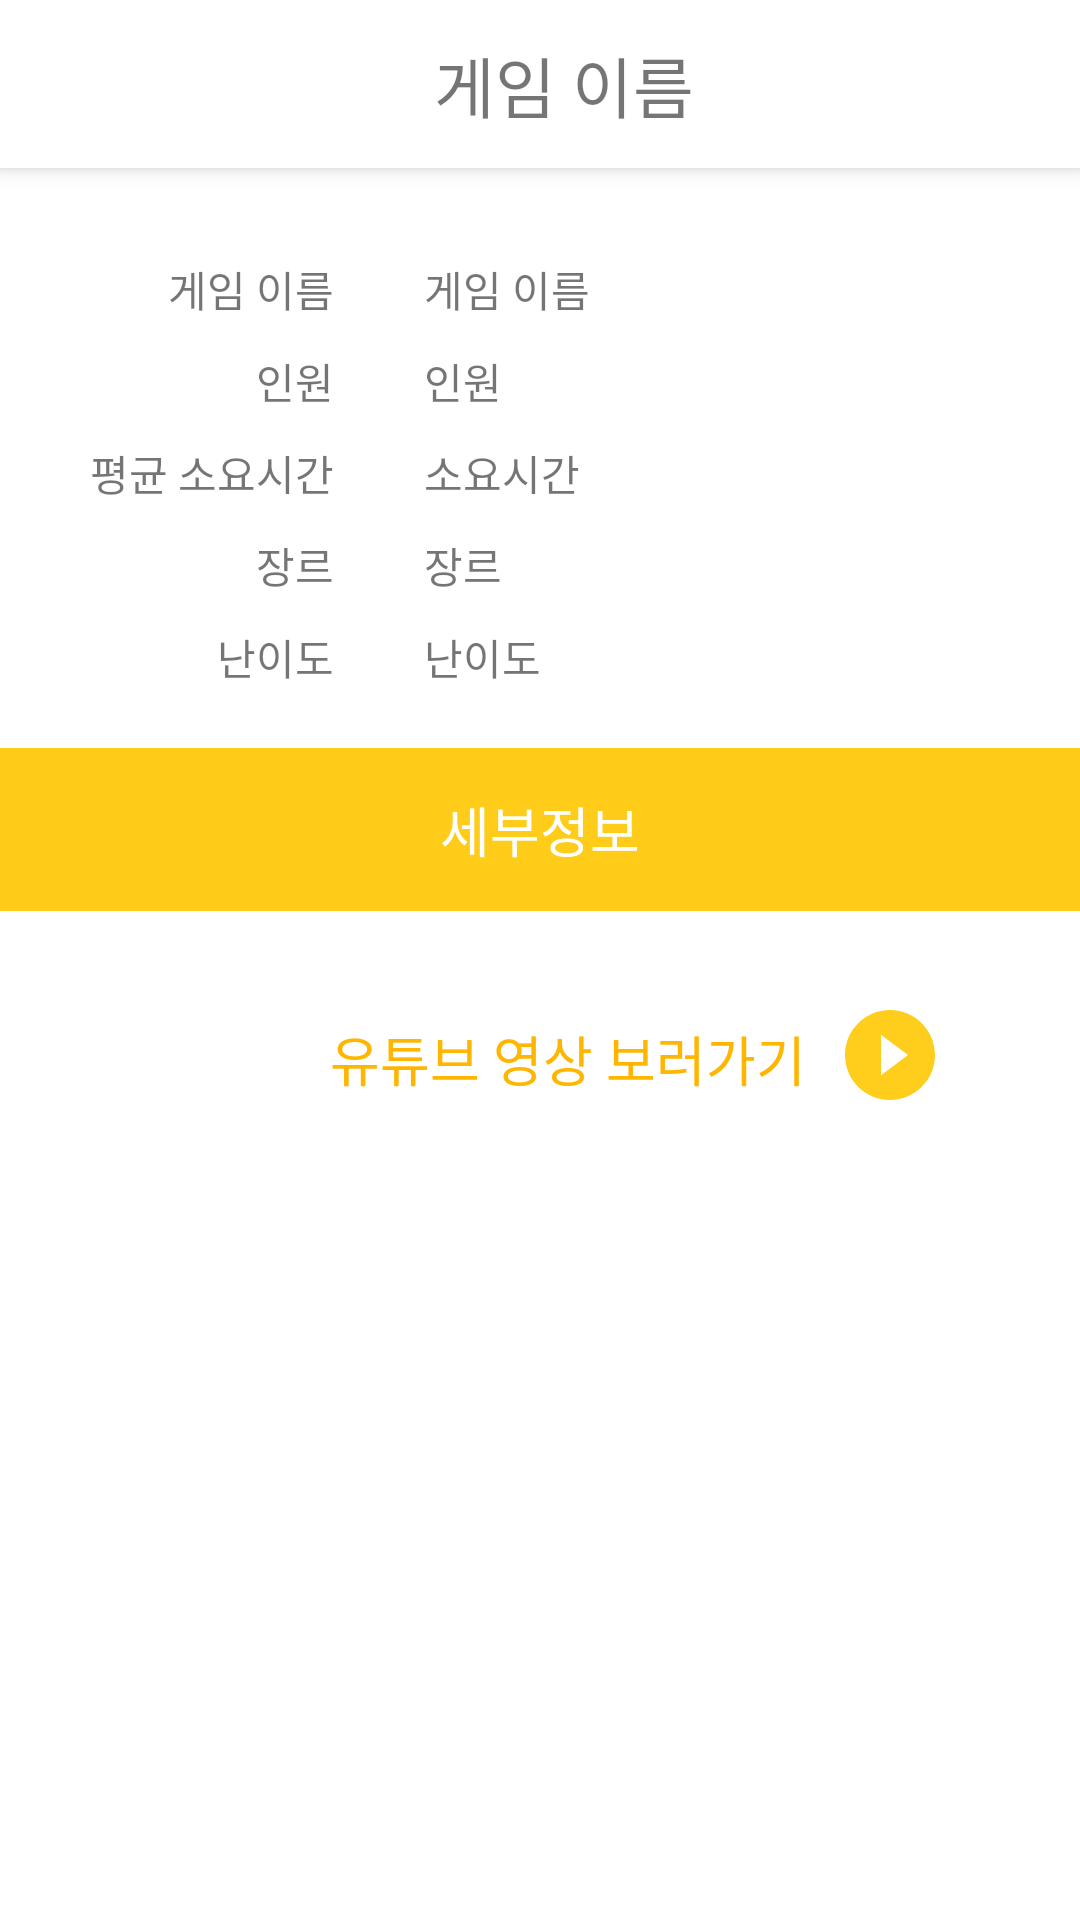

Icons on this 1080x1920 Android screen, each with the point to tap as (x=x, y=y):
play circle: (x=890, y=1055)
